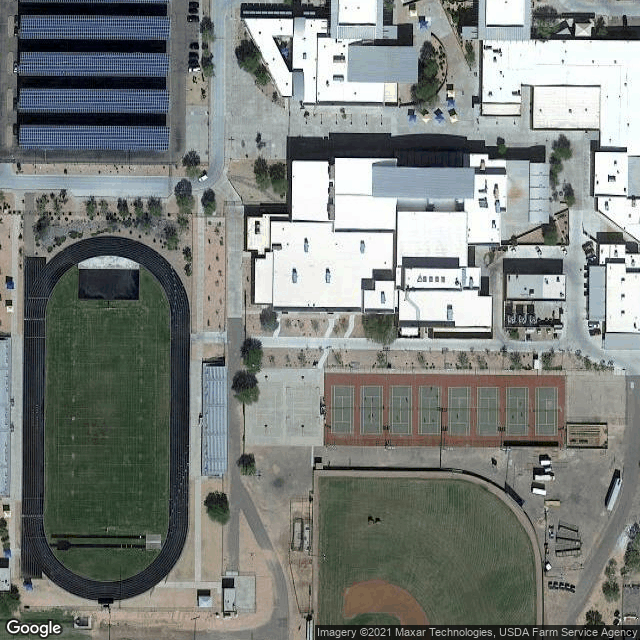carport-fixed: (19, 125, 170, 148), (17, 87, 168, 110), (17, 51, 168, 74), (18, 15, 169, 38)
